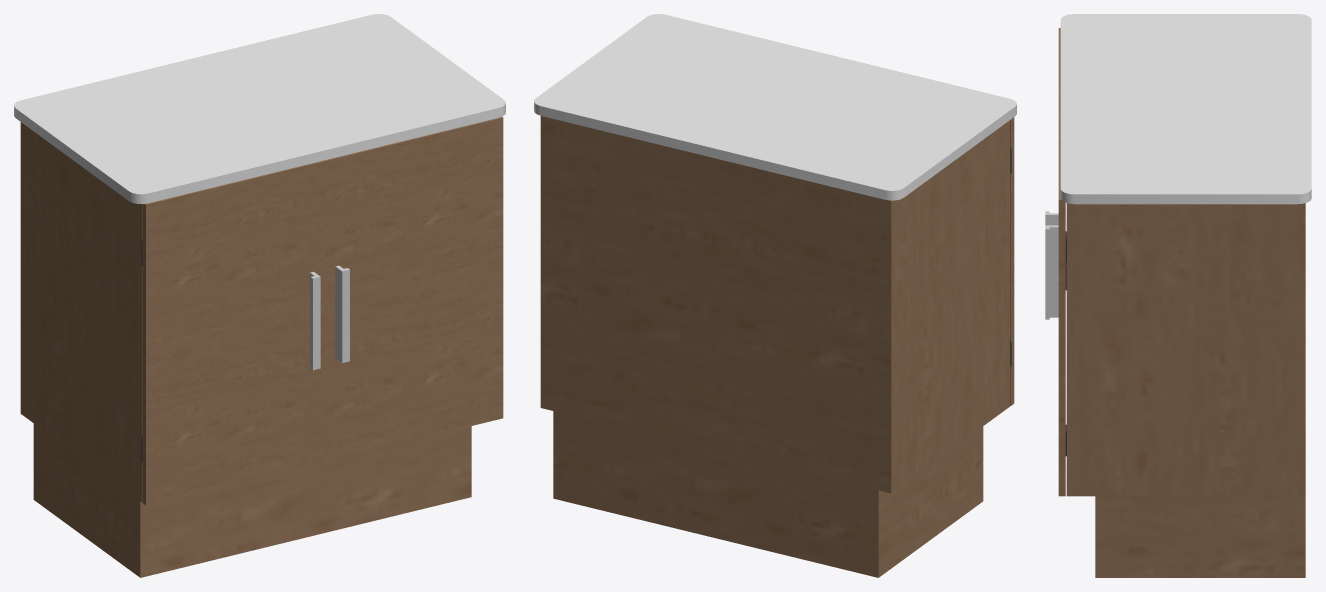
File: vanity_modern_02.glb
3 views of the same model, side by side, from view 1: azimuth 30°, elevation 25°; view 2: azimuth 150°, elevation 25°; view 3: azimuth 270°, elevation 25° (orthographic).
Parts seen in each view (by area): view 1: BathroomVanity02, BathroomVanity02DoorL, BathroomVanity02DoorR; view 2: BathroomVanity02, BathroomVanity02DoorL; view 3: BathroomVanity02, BathroomVanity02DoorR, BathroomVanity02DoorL.
Part boxes in pixels (x1,y1,x2,y2): BathroomVanity02: (14,14,505,577); BathroomVanity02DoorL: (141,160,324,505); BathroomVanity02DoorR: (324,117,503,461); BathroomVanity02: (534,14,1016,577); BathroomVanity02DoorL: (1010,117,1014,405); BathroomVanity02: (1060,14,1311,577); BathroomVanity02DoorR: (1045,114,1066,496); BathroomVanity02DoorL: (1045,28,1066,289).
Size of the model in its own units: 1.18 by 1.2 by 0.7342.
1 material, 1 textured.
